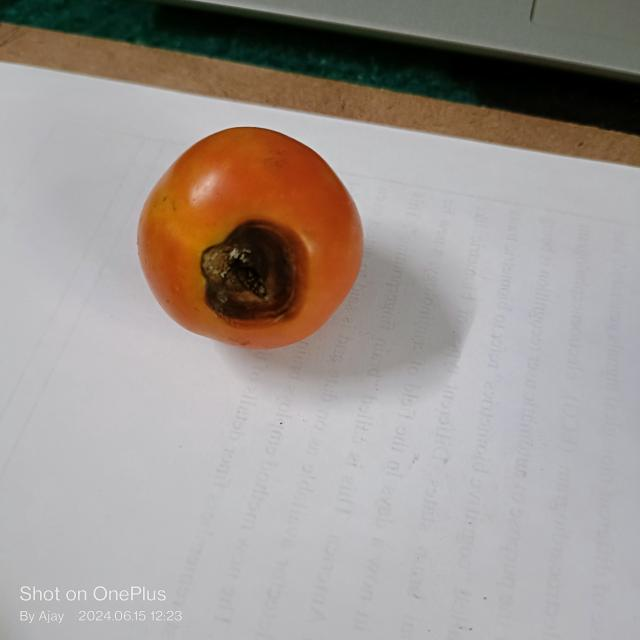Anthrocnose: (200, 216, 310, 326)
